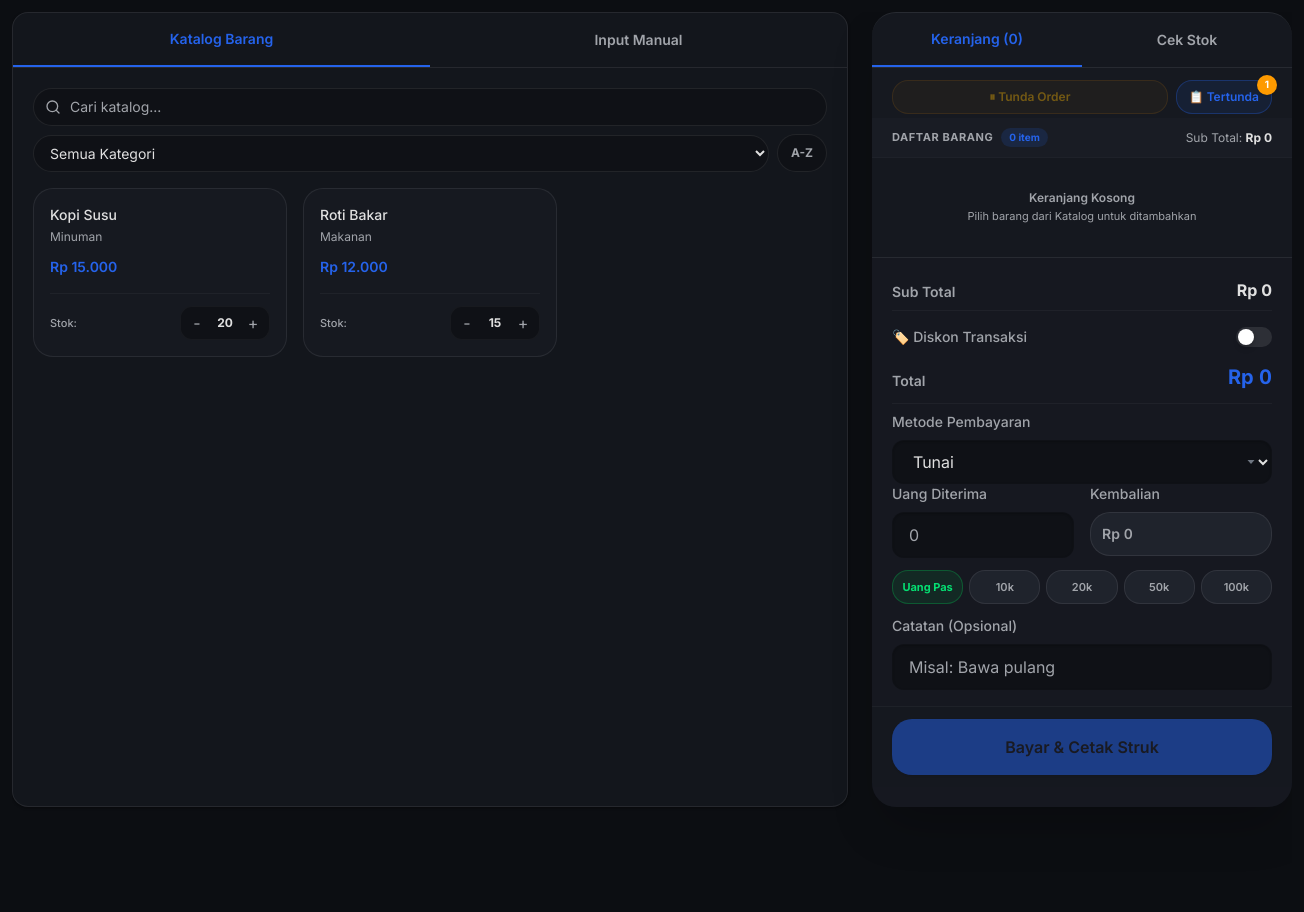
Scenario: Mobile Cart Layout & Pending Orders Persistence › persists pending orders to localStorage and restores on initialization
Check: the text "1" is shown, box [1257, 75, 1277, 95]
Click pending orders button to view list
Click the button "📋 Tertunda 1": {"x": 1224, "y": 97} [1176, 80, 1272, 114]
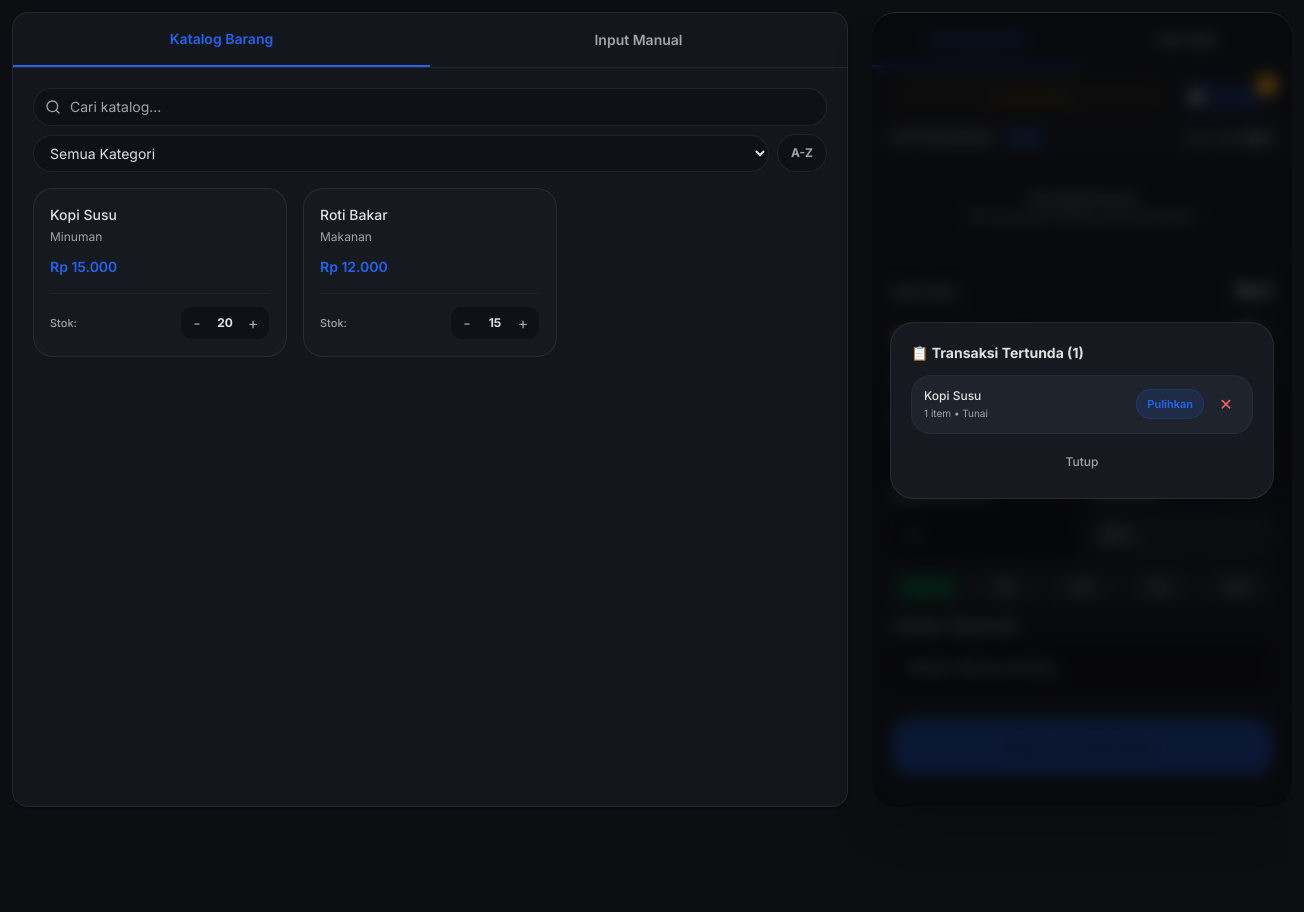
Check: the 1st text "Kopi Susu" is shown, box [50, 206, 117, 223]
Check: the heading "📋 Transaksi Tertunda (1)" is shown, box [911, 344, 1084, 360]
